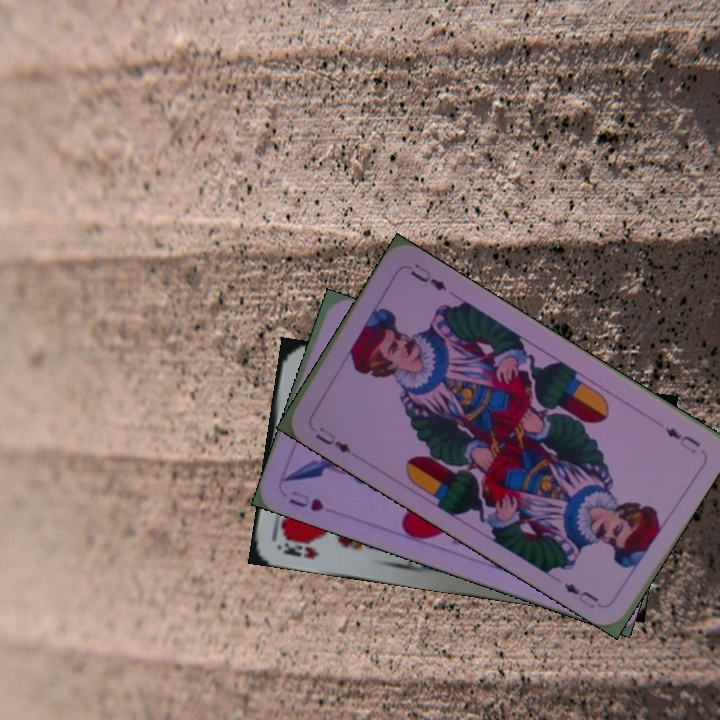EU: (311, 422, 354, 456), (660, 423, 703, 457)
HK: (275, 532, 321, 562)
HU: (285, 486, 327, 514)
